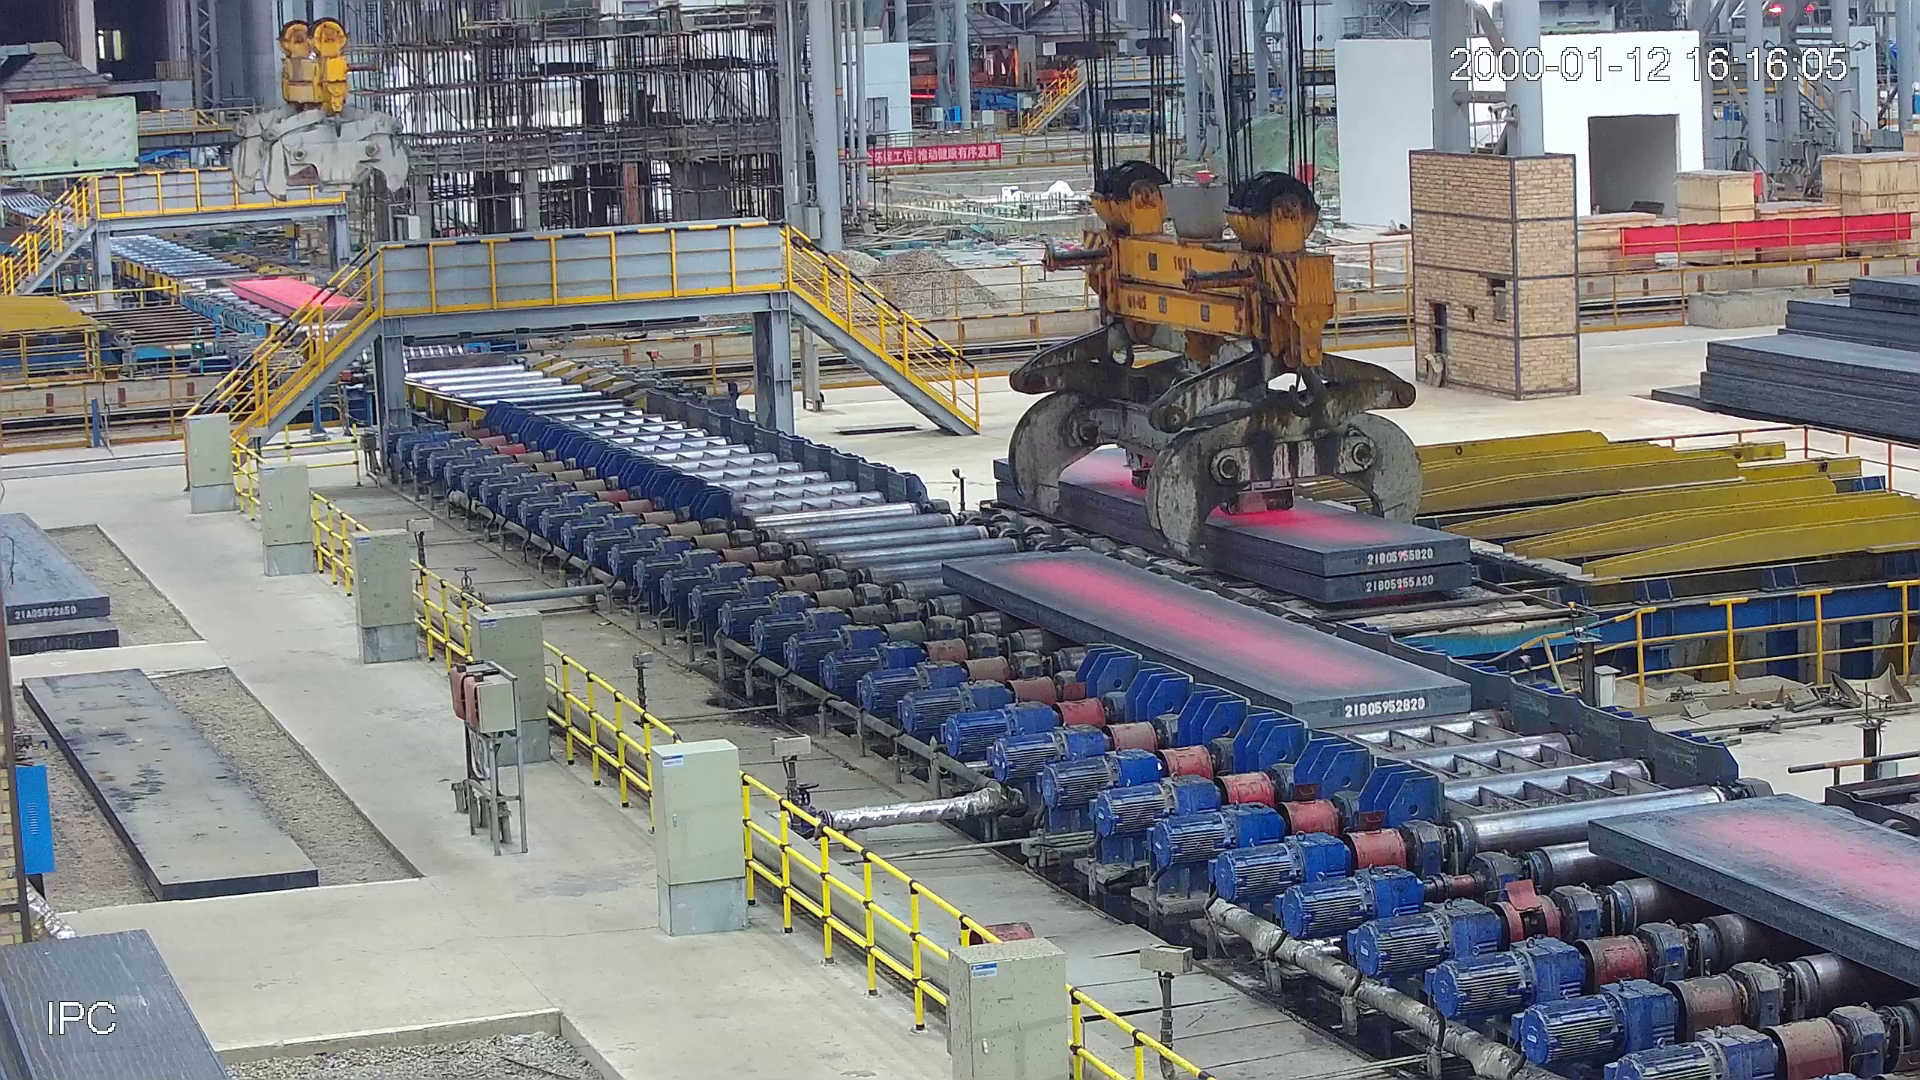crane: (229, 17, 407, 202)
craneandslab: (992, 160, 1476, 596)
slab: (944, 553, 1466, 728), (1582, 800, 1920, 1000), (225, 280, 377, 323)
